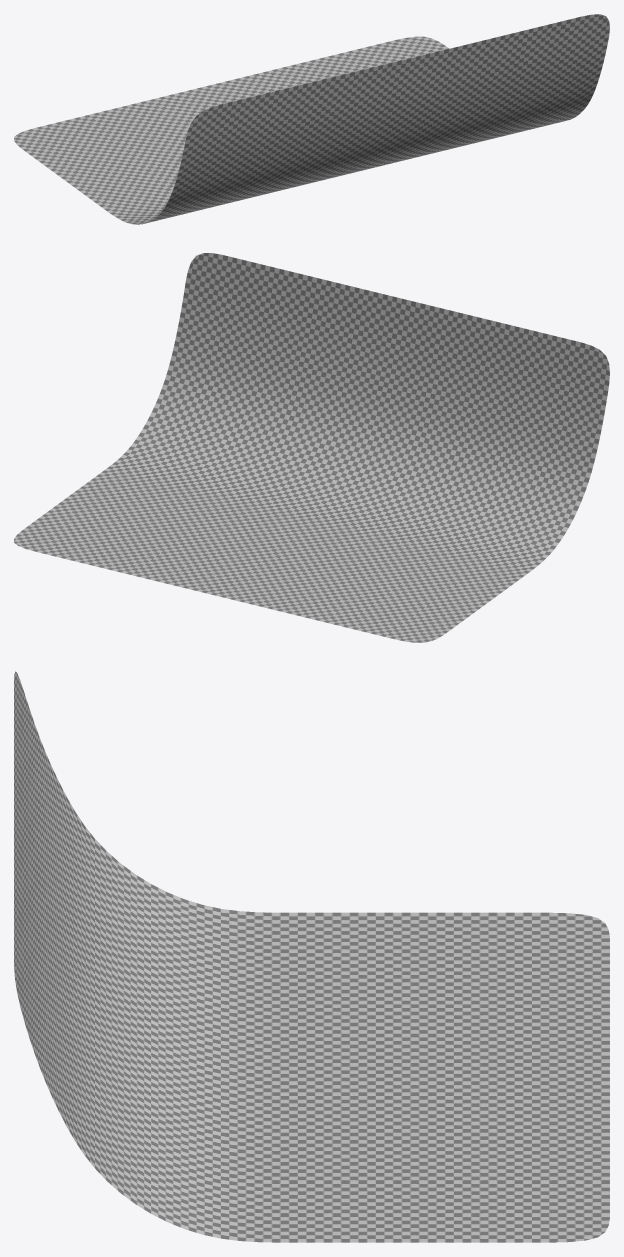
File: background.gltf
3 renders of one model, top to bottom at view 1: azimuth 30°, elevation 25°; view 2: azimuth 150°, elevation 25°; view 3: azimuth 270°, elevation 25°, orthographic. The views are drawn at different scales.
Visible parts, largest first — view 1: BasePlane; view 2: BasePlane; view 3: BasePlane.
Boxes of the visible parts, <box> form: BasePlane: <box>14,14,609,224</box>; BasePlane: <box>14,253,609,642</box>; BasePlane: <box>14,671,609,1242</box>.
Size of the model in its own units: 5 by 1.81 by 3.82.
Materials: 1 (1 with a texture image).
